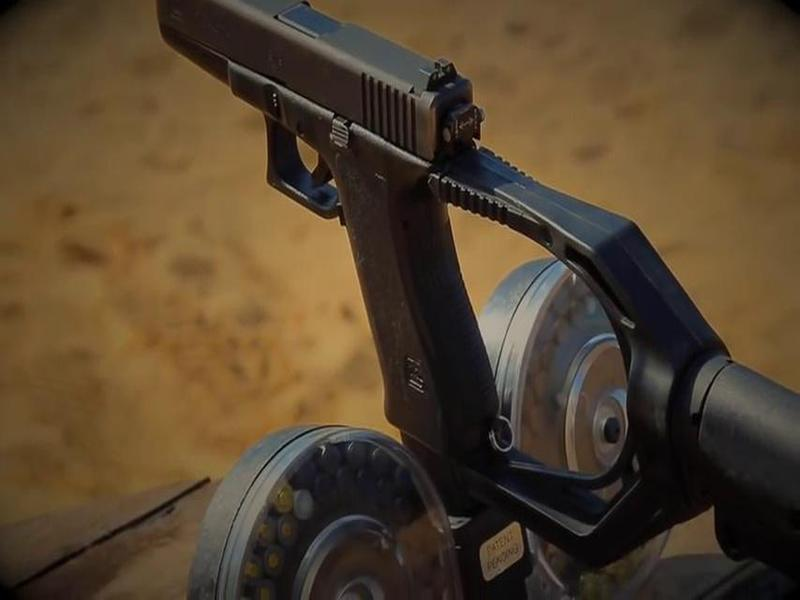Pistola: (140, 1, 472, 430)
